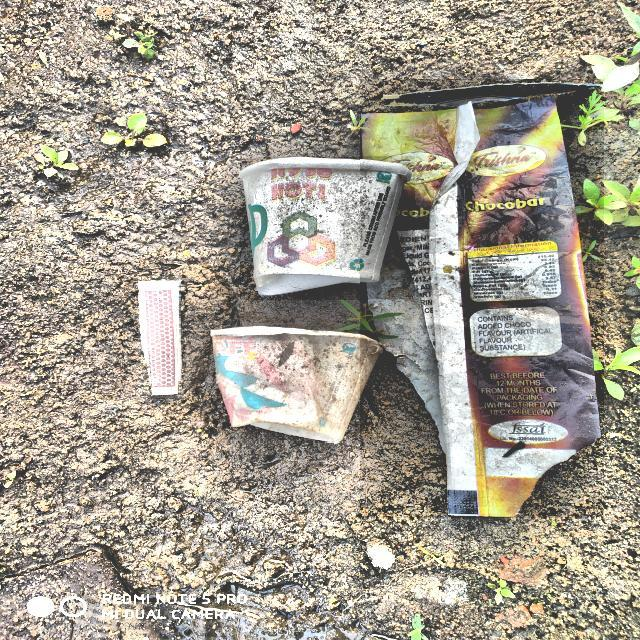anorganik: (360, 80, 604, 518), (240, 158, 415, 300), (206, 330, 403, 442), (139, 276, 180, 398)
